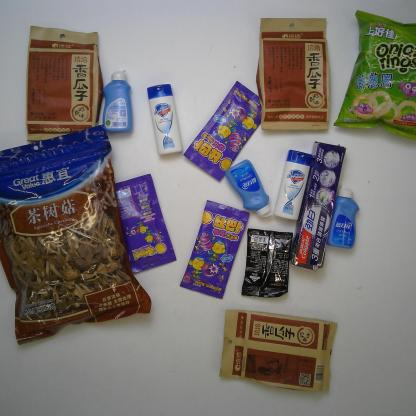Candy: (183, 80, 262, 182), (178, 201, 249, 299), (114, 172, 178, 272)
Dried Food: (0, 124, 152, 344), (218, 308, 338, 391), (26, 24, 103, 141), (255, 18, 329, 130)
Instant Drink: (240, 227, 293, 297)
Personal Hygiene: (293, 140, 347, 269), (272, 149, 314, 221), (226, 158, 273, 219), (145, 84, 183, 155), (326, 184, 360, 249), (102, 70, 132, 133)
Puffed Food: (333, 9, 416, 140)
